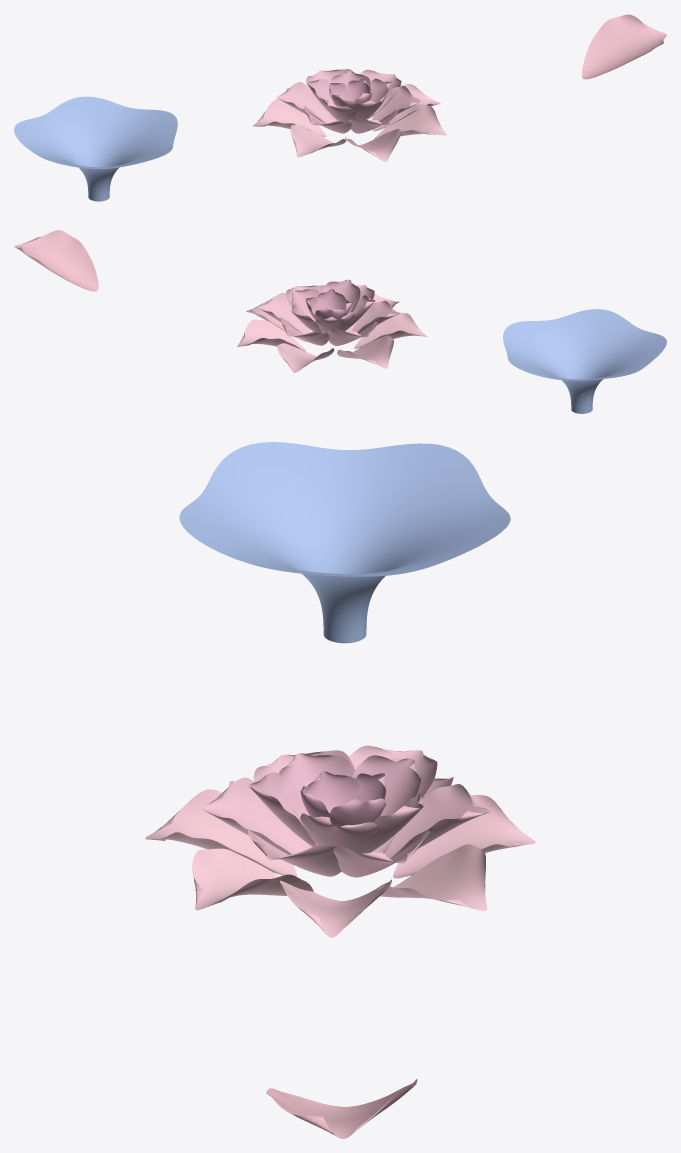
The model's file is flower_primitives.glb.
3 renders of one model, top to bottom at view 1: azimuth 30°, elevation 25°; view 2: azimuth 150°, elevation 25°; view 3: azimuth 270°, elevation 25°, orthographic. The views are drawn at different scales.
Parts seen in each view (by area): view 1: fused_corolla, petal_surface, layer0_petal6, layer0_petal3, layer1_petal2, layer0_petal4, layer1_petal5, layer0_petal5, layer1_petal4, layer1_petal3, layer0_petal0, layer2_petal1 (+7 smaller); view 2: fused_corolla, petal_surface, layer0_petal1, layer0_petal4, layer0_petal3, layer1_petal0, layer0_petal2, layer1_petal3, layer2_petal3, layer1_petal2, layer1_petal1, layer3_petal2 (+5 smaller); view 3: fused_corolla, layer0_petal6, layer0_petal1, layer0_petal5, layer0_petal2, layer1_petal4, layer1_petal1, petal_surface, layer0_petal0, layer2_petal1, layer2_petal3, layer2_petal4 (+7 smaller).
Part boxes in pixels (x1,y1,x2,y2): fused_corolla: (14, 96, 177, 201); petal_surface: (582, 14, 666, 79); layer0_petal6: (374, 104, 446, 139); layer0_petal3: (253, 99, 326, 136); layer1_petal2: (276, 82, 331, 123); layer0_petal4: (290, 124, 346, 157); layer1_petal5: (372, 86, 421, 122); layer0_petal5: (345, 129, 401, 161); layer1_petal4: (348, 110, 398, 133); layer1_petal3: (304, 106, 351, 133); layer0_petal0: (372, 84, 440, 131); layer2_petal1: (307, 79, 335, 111); fused_corolla: (503, 309, 666, 413); petal_surface: (14, 230, 98, 291); layer0_petal1: (237, 319, 305, 351); layer0_petal4: (354, 312, 427, 348); layer0_petal3: (337, 335, 393, 368); layer1_petal0: (257, 294, 310, 334); layer0_petal2: (277, 343, 334, 372); layer1_petal3: (351, 300, 399, 333); layer2_petal3: (322, 279, 360, 312); layer1_petal2: (327, 321, 378, 345); layer1_petal1: (281, 317, 329, 345); layer3_petal2: (317, 289, 345, 309); fused_corolla: (179, 442, 510, 643); layer0_petal6: (192, 848, 313, 910); layer0_petal1: (376, 844, 487, 910); layer0_petal5: (145, 789, 296, 876); layer0_petal2: (393, 795, 535, 878); layer1_petal4: (201, 777, 304, 854); layer1_petal1: (385, 784, 490, 858); petal_surface: (266, 1079, 417, 1138); layer0_petal0: (279, 879, 391, 937); layer2_petal1: (352, 755, 420, 816); layer2_petal3: (248, 772, 316, 846); layer2_petal4: (300, 813, 381, 852).
Bounding box in the file's own units: 0.955 × 0.0935 × 0.2549.
